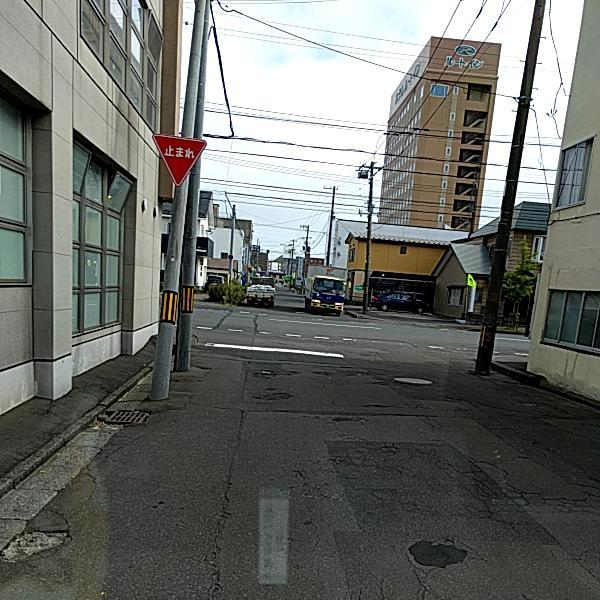D20: (287, 430, 599, 597), (53, 430, 137, 513)
D40: (5, 523, 76, 562)
